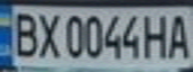0: (81, 11, 106, 60), (63, 10, 84, 60)
4: (121, 11, 145, 60), (103, 11, 124, 60)
A: (163, 10, 193, 60)
B: (6, 8, 42, 59)
H: (142, 10, 172, 60)
X: (33, 9, 63, 60)
